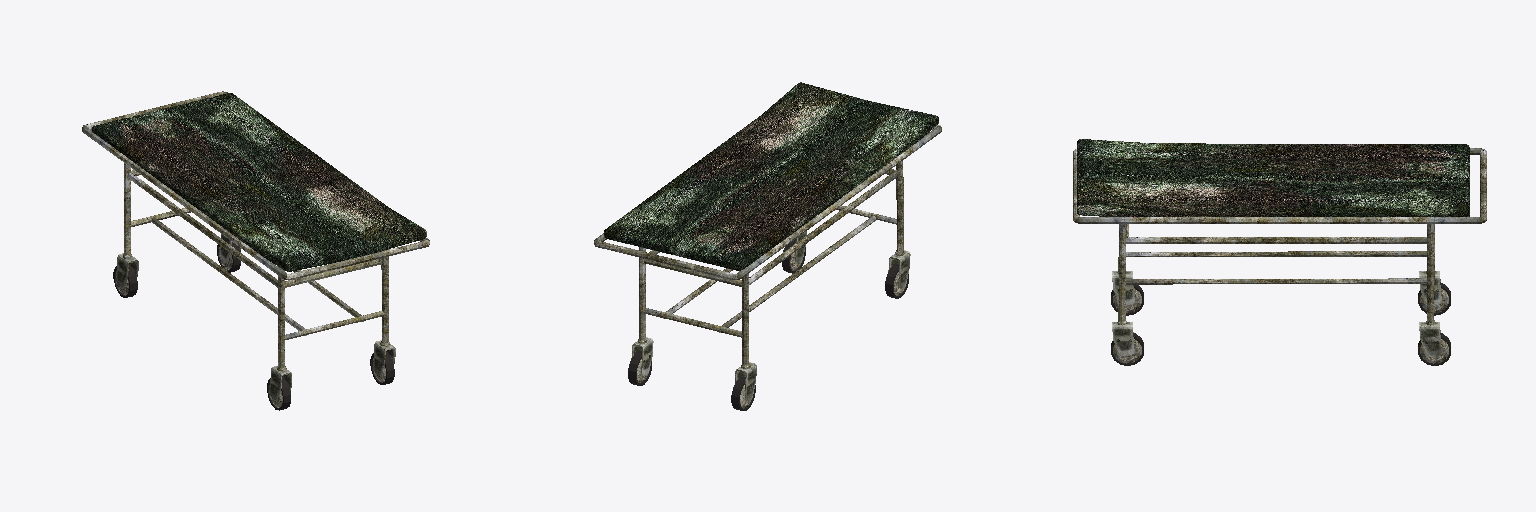
3 renders of one model, left to right at view 1: azimuth 30°, elevation 25°; view 2: azimuth 150°, elevation 25°; view 3: azimuth 270°, elevation 25°, orthographic.
Parts seen in each view (by area): view 1: ill _wear; view 2: ill _wear; view 3: ill _wear.
Boxes of the visible parts, x1,y1,x2,y2 form: ill _wear: [82, 91, 429, 410]; ill _wear: [594, 82, 941, 410]; ill _wear: [1073, 139, 1486, 365].
Bounding box in the file's own units: 82.04 × 89.24 × 200.
1 materials, 1 textured.